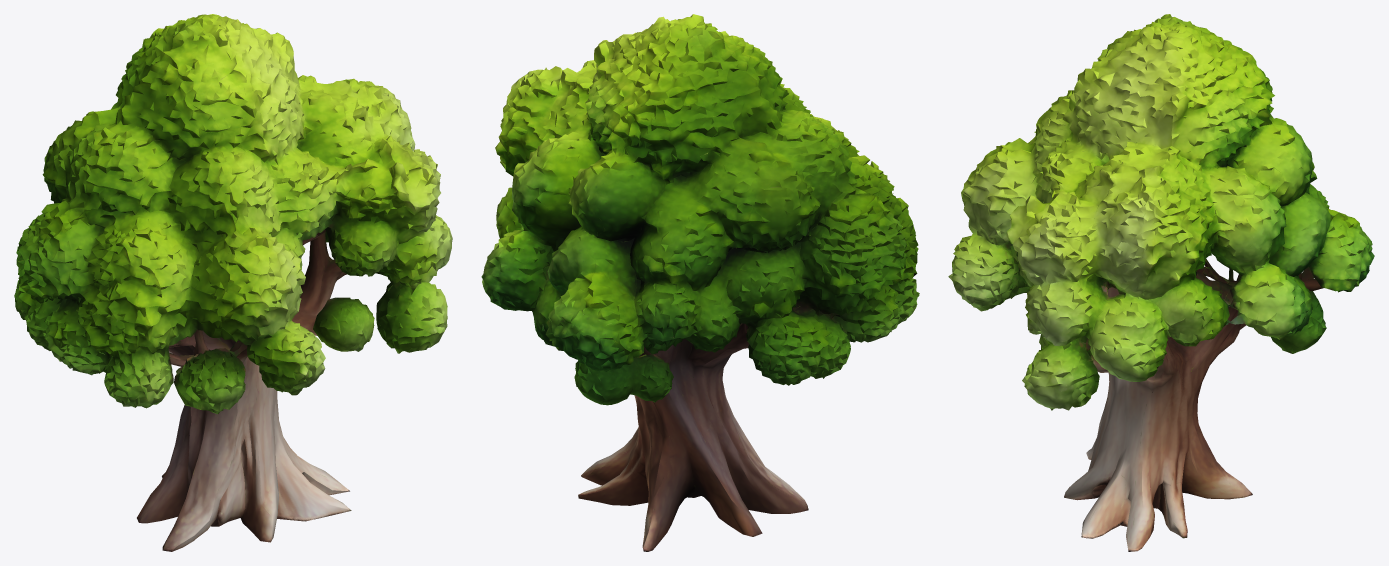
The model's file is tree.gltf.
The picture shows the model from 3 angles, left to right: view 1: azimuth 30°, elevation 25°; view 2: azimuth 150°, elevation 25°; view 3: azimuth 270°, elevation 25°; orthographic projection. The views are drawn at different scales.
Visible parts, largest first — view 1: world_0; view 2: world_0; view 3: world_0.
Part boxes in pixels (box(x1,y1,x2,y2)): world_0: box(14, 14, 452, 551); world_0: box(481, 14, 919, 551); world_0: box(948, 14, 1374, 551).
Bounding box in the file's own units: 0.8657 × 0.9986 × 0.8196.
Materials: 1 (1 with a texture image).
